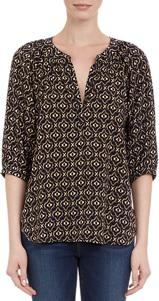C_W_pants: (15, 217, 136, 301)
C_blouse: (4, 31, 159, 250)
